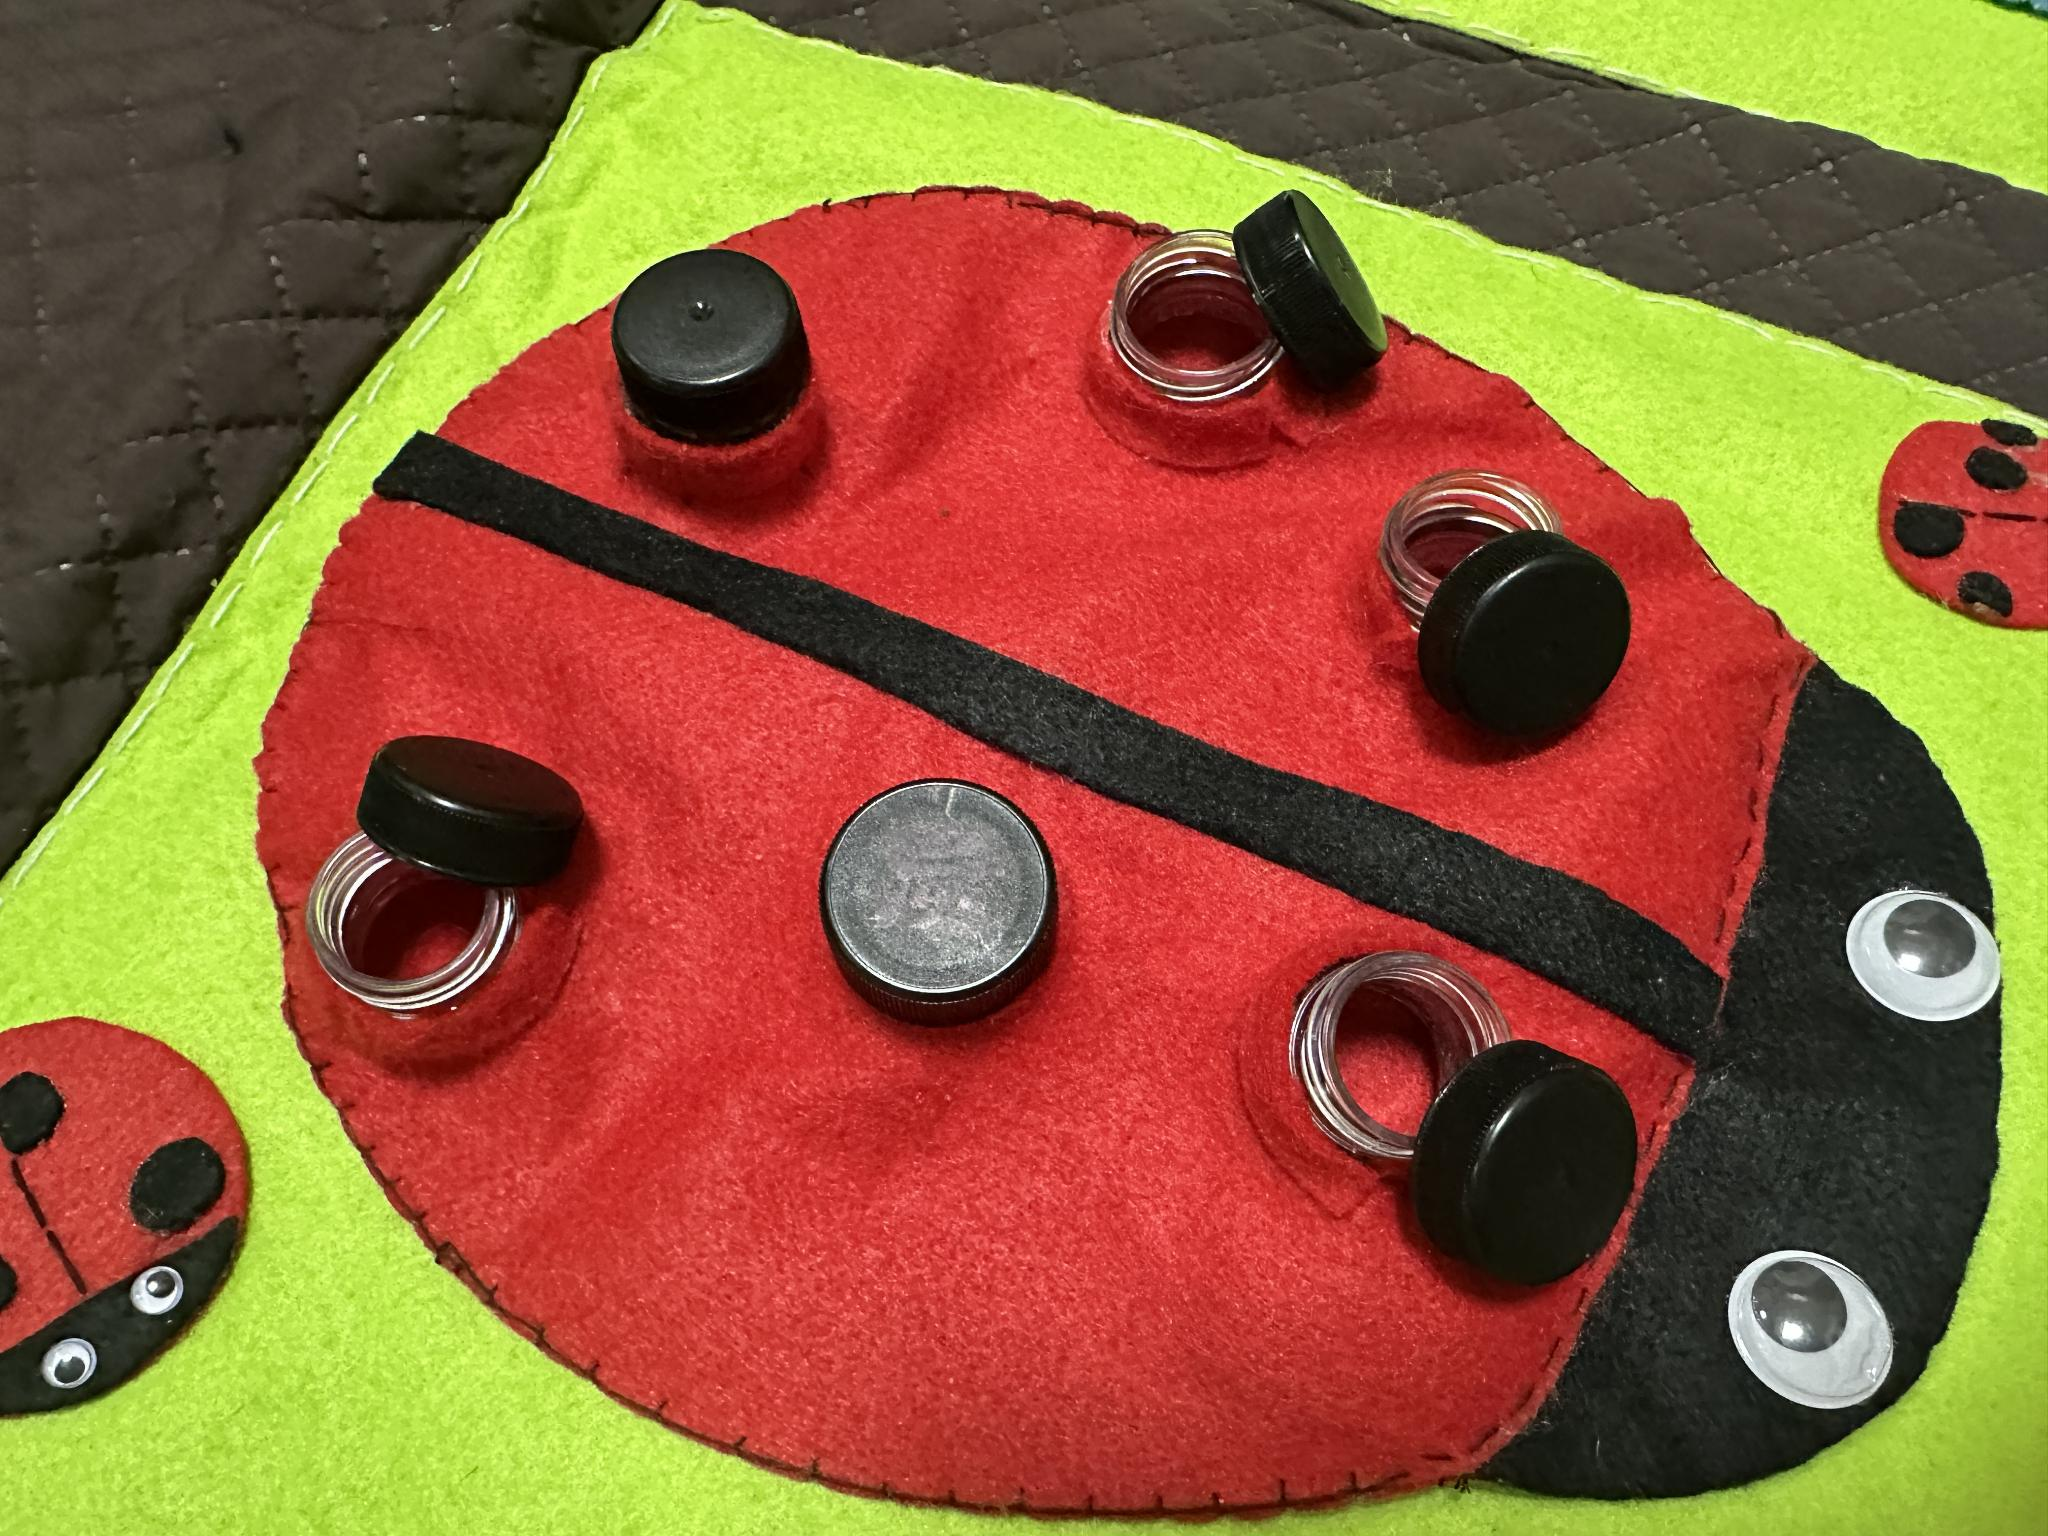cap_ng: (1293, 905, 1651, 1304), (282, 723, 608, 1071), (1347, 447, 1651, 784), (1072, 173, 1401, 465)
cap_ok: (785, 765, 1118, 1079), (571, 245, 856, 537)
